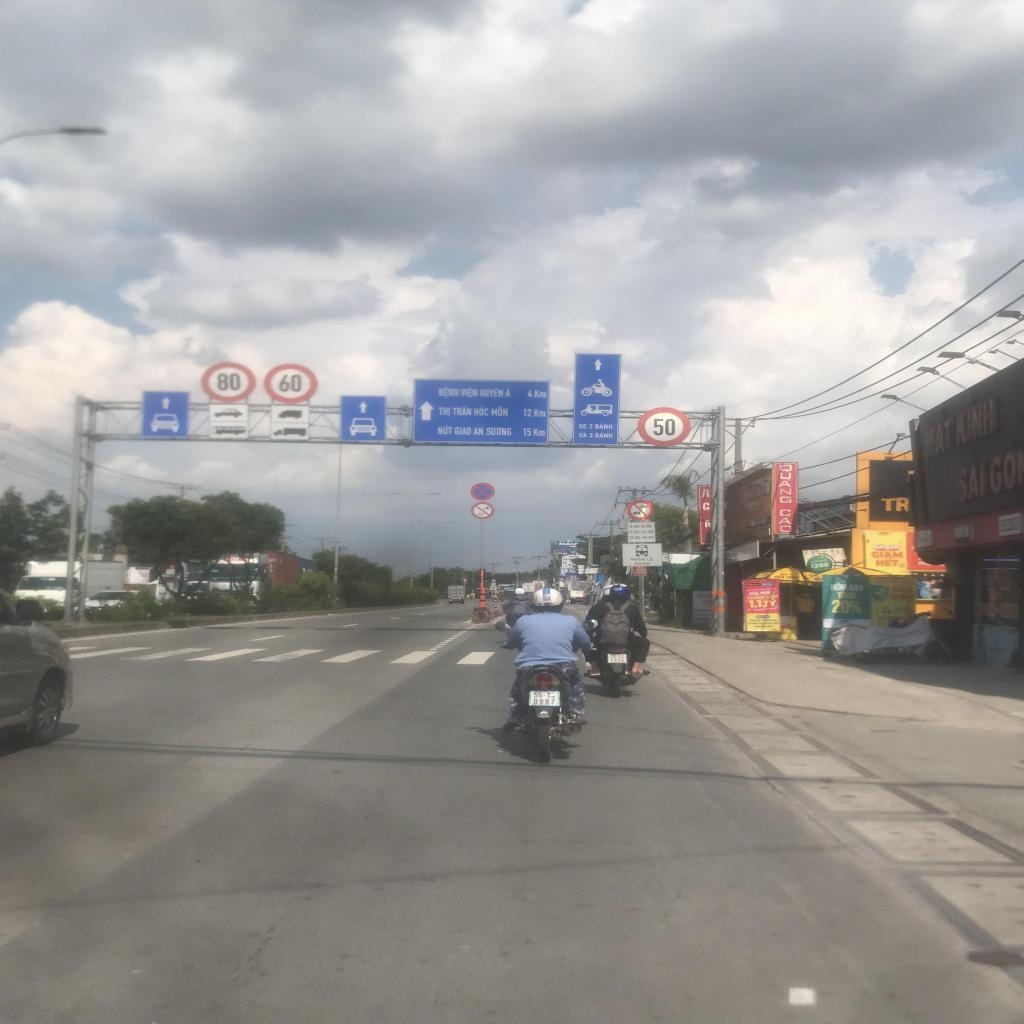cam_dung_xe_va_do_xe: (470, 482, 494, 500)
cam_o_to_tai_va_xe_khach: (626, 499, 654, 521)
cam_xe_2_banh_va_xe_3_banh_co_dong_co: (469, 502, 495, 520)
duong_cho_xe_o_to: (143, 392, 190, 436), (341, 396, 386, 440)
khac: (412, 379, 549, 443), (572, 354, 620, 444), (622, 544, 662, 567), (270, 422, 310, 440), (209, 404, 248, 420), (210, 422, 248, 438), (271, 406, 309, 422), (626, 522, 656, 542)
toc_do_toi_da_50: (637, 407, 690, 447)
toc_do_toi_da_60: (264, 363, 318, 403)
toc_do_toi_da_80: (200, 362, 258, 402)
